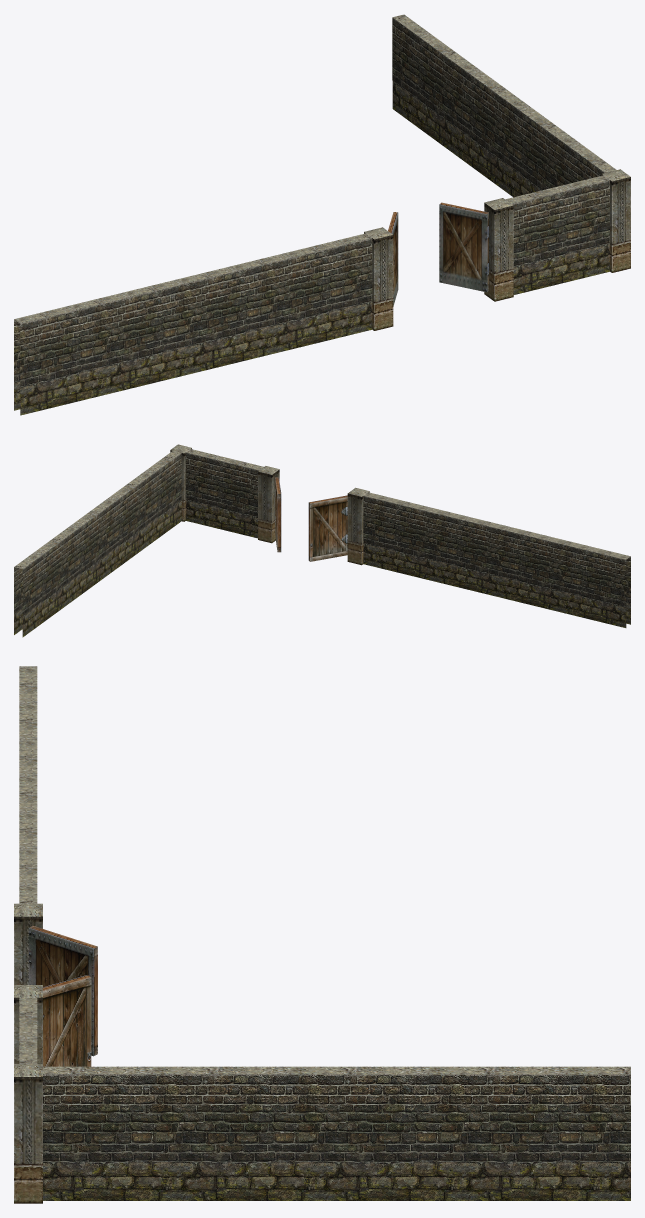
The picture shows the model from 3 angles, top to bottom: view 1: azimuth 30°, elevation 25°; view 2: azimuth 150°, elevation 25°; view 3: azimuth 270°, elevation 25°; orthographic projection. The views are drawn at different scales.
Parts seen in each view (by area): view 1: tn5_wl_pd; view 2: tn5_wl_pd; view 3: tn5_wl_pd.
Part boxes in pixels (bbox=[...]): tn5_wl_pd: bbox=[14, 14, 630, 415]; tn5_wl_pd: bbox=[14, 444, 630, 637]; tn5_wl_pd: bbox=[14, 666, 630, 1203].
Size of the model in its own units: 22.32 by 3.33 by 14.18.
5 materials, 5 textured.
